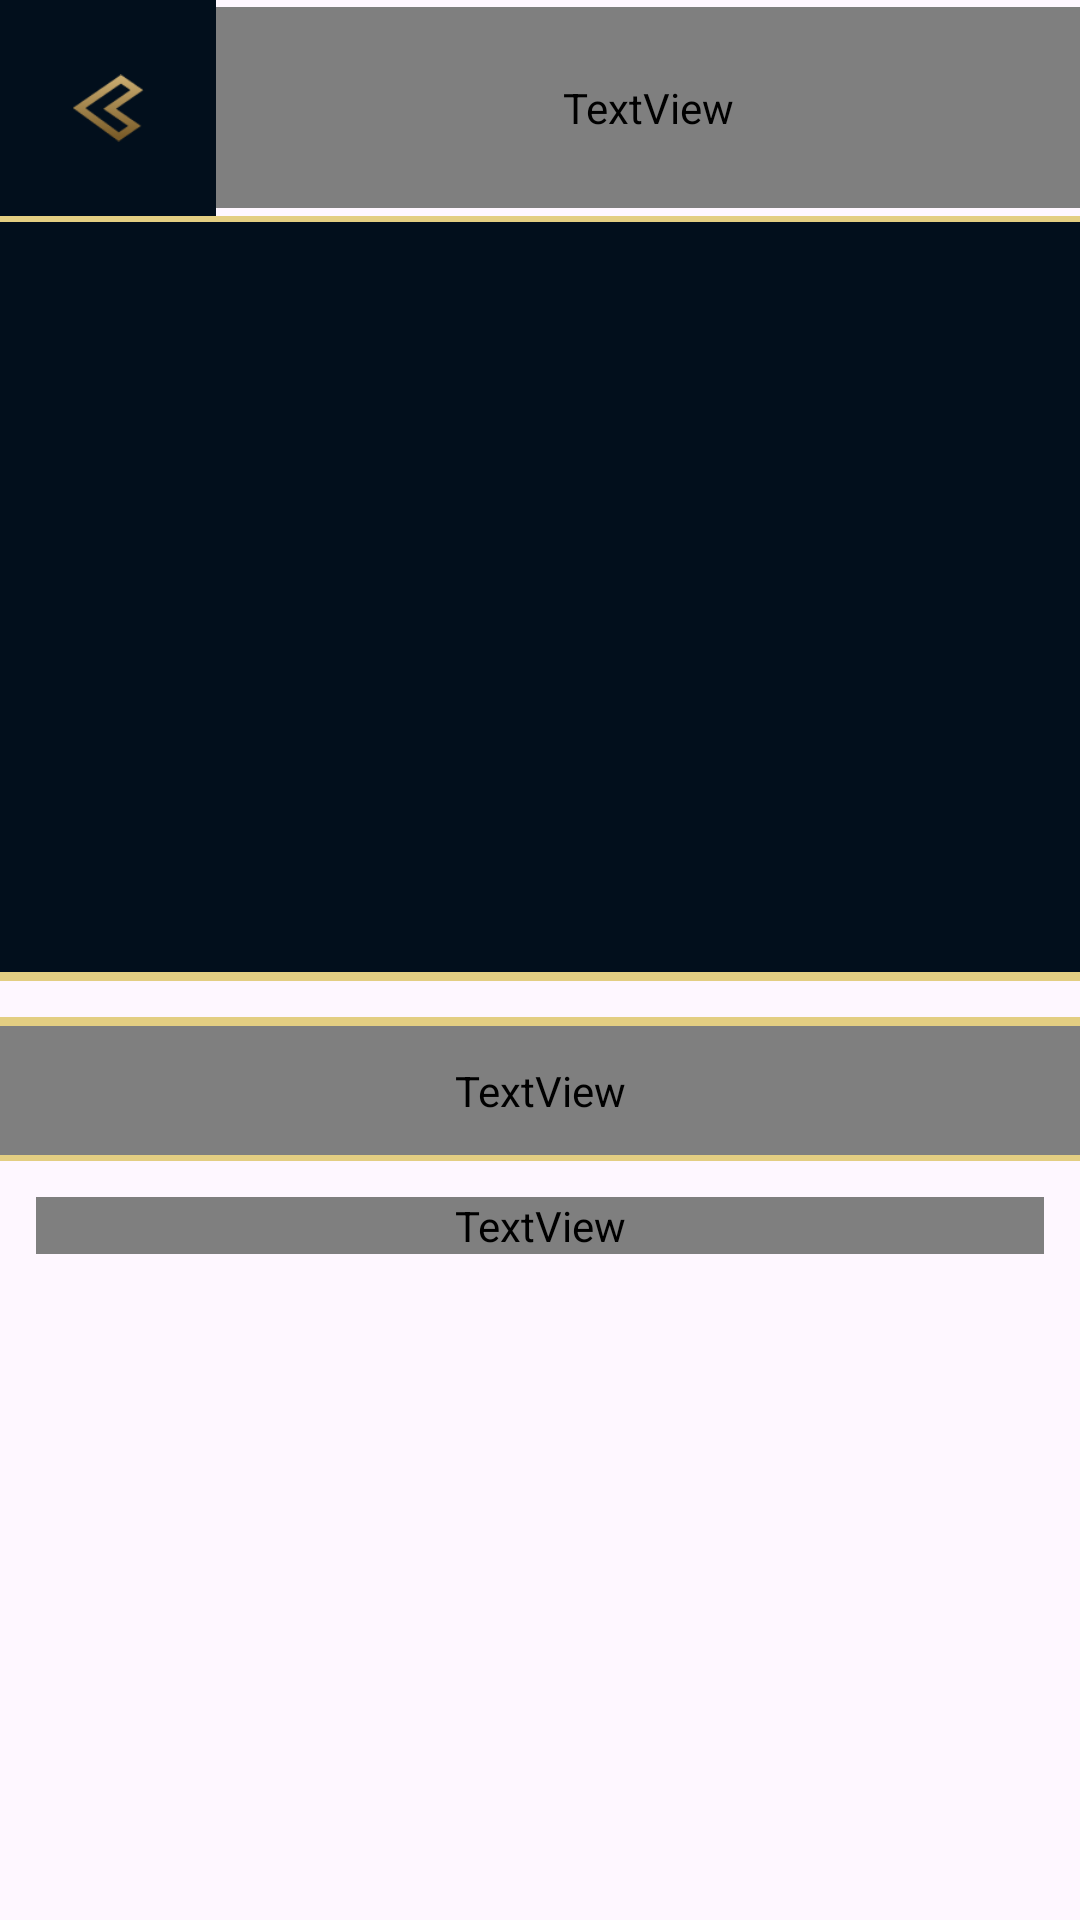

Icons on this 1080px x 1920px Android screen, each with the point to tap as point (x, y):
back lol: point (108, 108)
